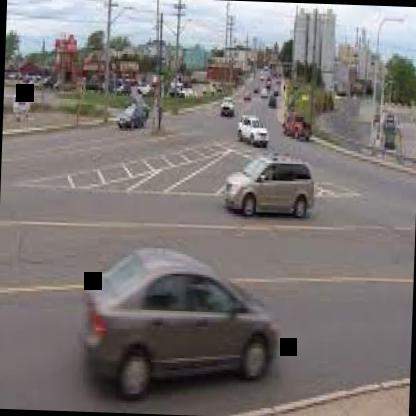car: (59, 235, 290, 406), (198, 151, 322, 232), (106, 101, 154, 138), (234, 108, 272, 149), (280, 108, 316, 148), (213, 96, 238, 130), (265, 96, 279, 114), (244, 90, 254, 110)
